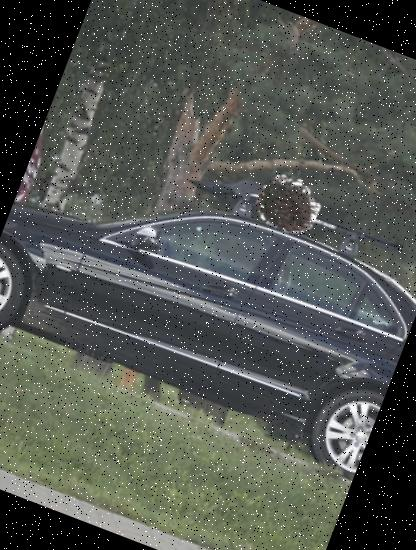Rambutan: (247, 165, 328, 246)
